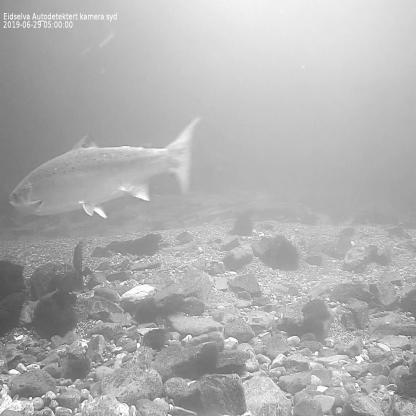salmon: (8, 116, 200, 221)
